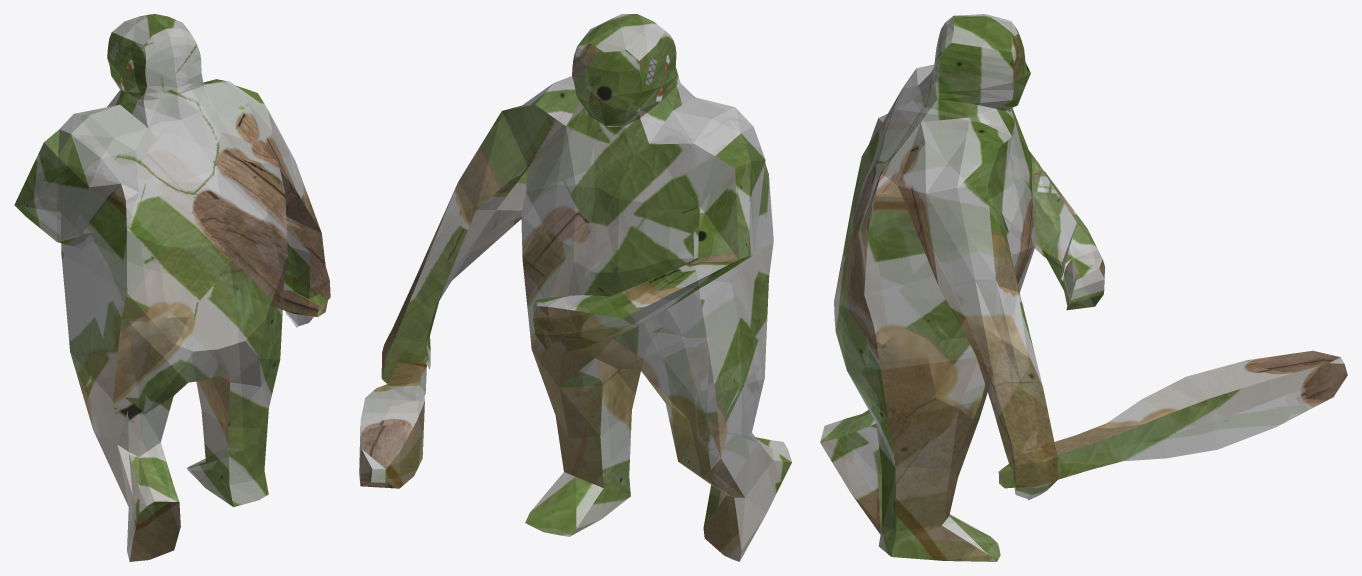
The model's file is Enemigo223.obj.
3 views of the same model, side by side, from view 1: azimuth 30°, elevation 25°; view 2: azimuth 150°, elevation 25°; view 3: azimuth 270°, elevation 25° (orthographic). The views are drawn at different scales.
Visible parts, largest first — view 1: Cube; view 2: Cube; view 3: Cube.
Boxes of the visible parts, x1,y1,x2,y2 form: Cube: [14, 14, 330, 561]; Cube: [359, 14, 791, 561]; Cube: [820, 14, 1347, 561].
Size of the model in its own units: 1.87 by 2.83 by 2.51.
